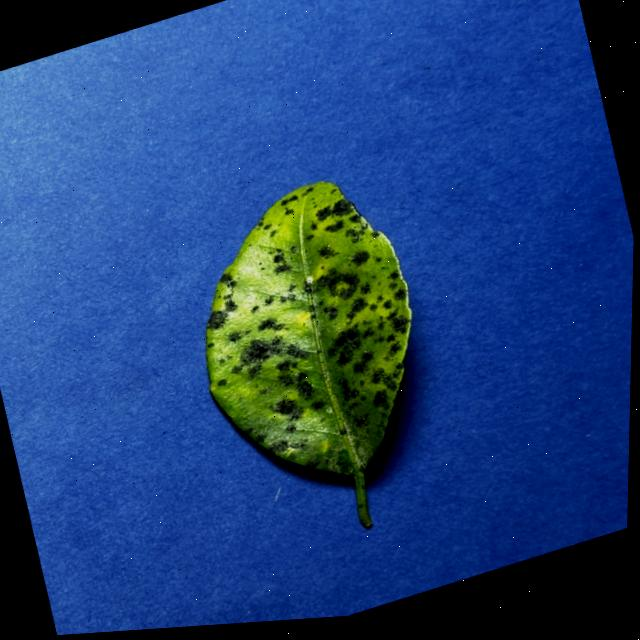sooty_mold: (204, 181, 410, 525)
